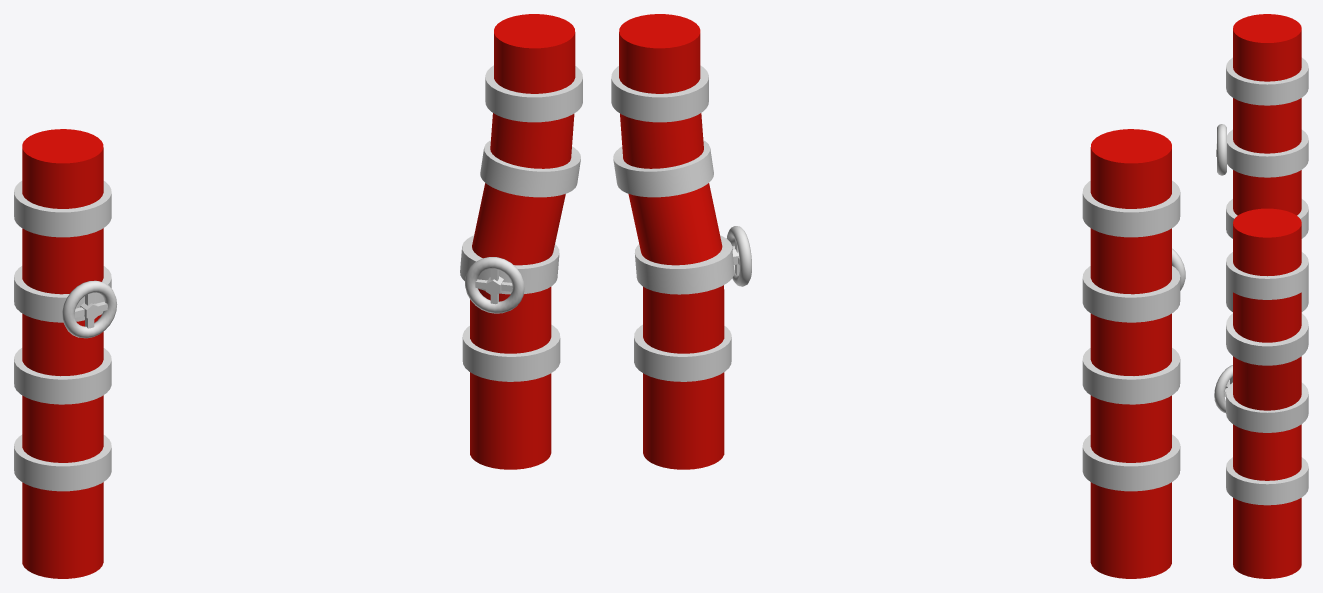
File: Pipes.fbx
The picture shows the model from 3 angles, left to right: view 1: azimuth 30°, elevation 25°; view 2: azimuth 150°, elevation 25°; view 3: azimuth 270°, elevation 25°; orthographic projection. The views are drawn at different scales.
Parts seen in each view (by area): view 1: Pipe2, Pipe, Torus.001, Torus; view 2: Pipe2, Pipe, Torus.001; view 3: Pipe2, Pipe, Torus, Torus.001.
Boxes of the visible parts, box(x1,y1,x2,y2) form: Pipe2: box(460, 14, 582, 469); Pipe: box(14, 129, 111, 578); Torus.001: box(465, 257, 524, 313); Torus: box(62, 280, 117, 338); Pipe2: box(611, 14, 734, 469); Pipe: box(1082, 129, 1180, 578); Torus.001: box(726, 226, 751, 286); Pipe2: box(1226, 208, 1308, 578); Pipe: box(1226, 14, 1308, 311); Torus: box(1217, 124, 1226, 175); Torus.001: box(1214, 365, 1232, 413).
Bounding box in the file's own units: 1260 × 900 × 219.
